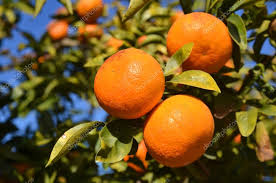orange: (145, 96, 215, 169), (94, 49, 166, 118), (166, 12, 234, 77)
